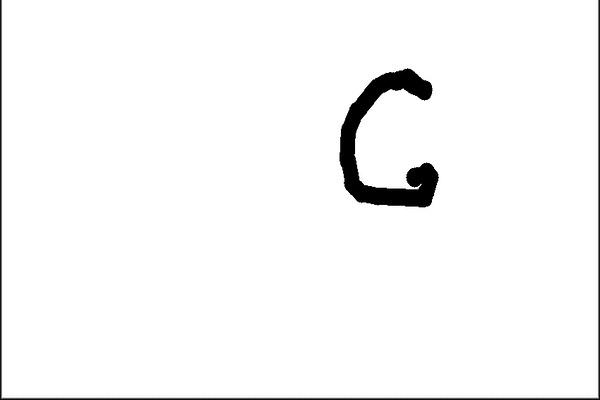C: (333, 65, 443, 211)
